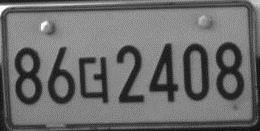0: (181, 42, 210, 101)
2: (115, 43, 148, 102)
4: (147, 42, 180, 103)
6: (45, 45, 76, 105)
8: (215, 41, 245, 101), (13, 46, 43, 105)
더: (77, 55, 109, 104)
